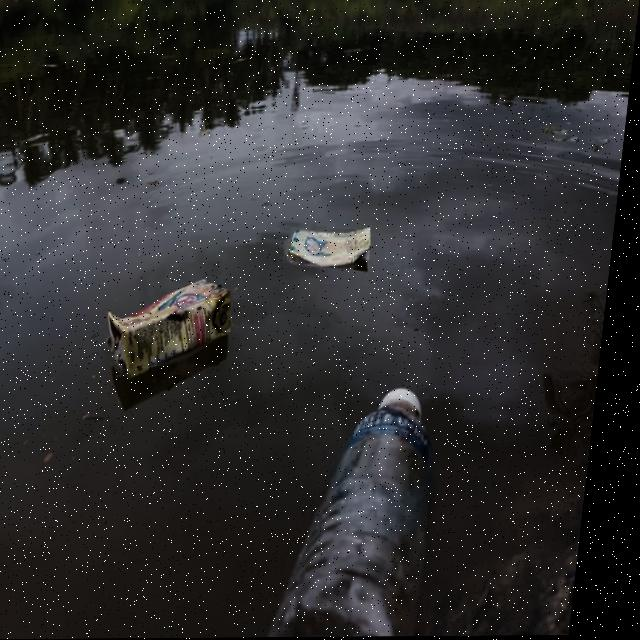paper: (109, 276, 252, 394), (274, 228, 393, 281)
waterbottle: (274, 372, 496, 638)
